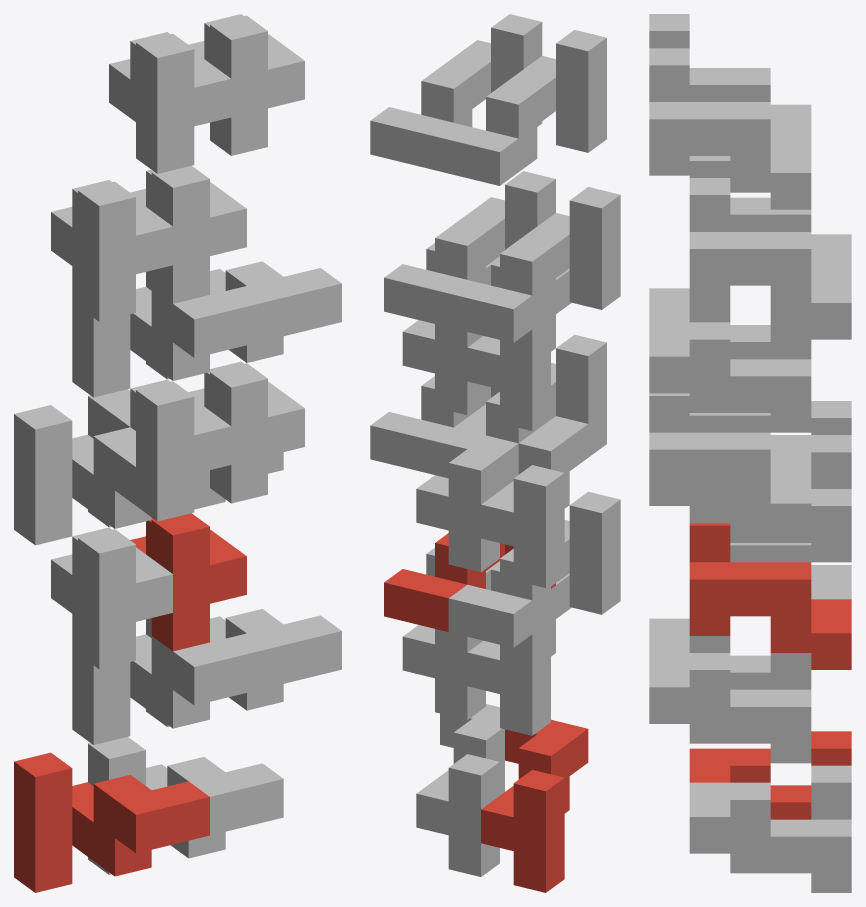
The model's file is tiling.obj.
3 renders of one model, left to right at view 1: azimuth 30°, elevation 25°; view 2: azimuth 150°, elevation 25°; view 3: azimuth 270°, elevation 25°, orthographic. The views are drawn at different scales.
Visible parts, largest first — view 1: copy_1_domain_1, copy_1_domain_2, copy_1_domain_4, copy_1_domain_3, copy_2_domain_4, copy_2_domain_1, copy_2_domain_3, copy_2_domain_2, copy_1_domain_5, copy_2_domain_8, copy_2_domain_6, copy_2_domain_7 (+4 smaller); view 2: copy_2_domain_3, copy_2_domain_4, copy_2_domain_1, copy_1_domain_1, copy_1_domain_3, copy_2_domain_8, copy_2_domain_7, copy_1_domain_5, copy_2_domain_2, copy_1_domain_4, copy_1_domain_2, copy_1_domain_7 (+4 smaller); view 3: copy_2_domain_7, copy_1_domain_5, copy_2_domain_8, copy_2_domain_6, copy_2_domain_5, copy_1_domain_8, copy_1_domain_6, copy_1_domain_7, copy_1_domain_1, copy_2_domain_4, copy_2_domain_3, copy_1_domain_4 (+4 smaller).
Boxes of the visible parts, x1,y1,x2,y2 form: copy_1_domain_1: [14, 752, 209, 892]; copy_1_domain_2: [72, 614, 267, 744]; copy_1_domain_4: [72, 266, 267, 397]; copy_1_domain_3: [14, 405, 209, 545]; copy_2_domain_4: [109, 32, 231, 173]; copy_2_domain_1: [51, 527, 172, 669]; copy_2_domain_3: [51, 180, 172, 321]; copy_2_domain_2: [109, 379, 231, 521]; copy_1_domain_5: [88, 737, 283, 874]; copy_2_domain_8: [188, 14, 304, 155]; copy_2_domain_6: [188, 361, 304, 503]; copy_2_domain_7: [130, 165, 246, 303]; copy_2_domain_3: [448, 187, 620, 342]; copy_2_domain_4: [435, 30, 606, 185]; copy_2_domain_1: [448, 491, 620, 647]; copy_1_domain_1: [481, 719, 588, 892]; copy_1_domain_3: [481, 416, 588, 587]; copy_2_domain_8: [370, 14, 542, 170]; copy_2_domain_7: [384, 171, 555, 327]; copy_1_domain_5: [416, 704, 504, 876]; copy_2_domain_2: [435, 334, 606, 490]; copy_1_domain_4: [467, 258, 571, 430]; copy_1_domain_2: [467, 563, 571, 735]; copy_1_domain_7: [416, 404, 499, 572]; copy_2_domain_7: [689, 178, 851, 339]; copy_1_domain_5: [689, 765, 851, 892]; copy_2_domain_8: [649, 48, 811, 209]; copy_2_domain_6: [649, 393, 811, 540]; copy_2_domain_5: [689, 523, 851, 669]; copy_1_domain_8: [649, 322, 811, 432]; copy_1_domain_6: [649, 653, 811, 763]; copy_1_domain_7: [689, 435, 851, 562]; copy_1_domain_1: [689, 731, 851, 819]; copy_2_domain_4: [649, 14, 811, 138]; copy_2_domain_3: [689, 156, 851, 268]; copy_1_domain_4: [649, 288, 770, 359].
Size of the model in its own units: 6 by 23 by 5.
